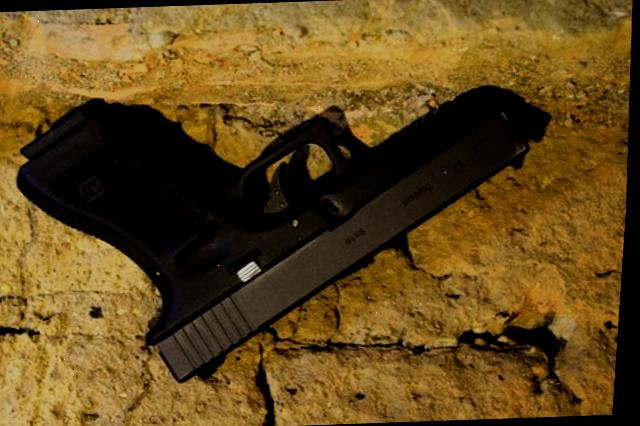pistol: (0, 69, 543, 394)
